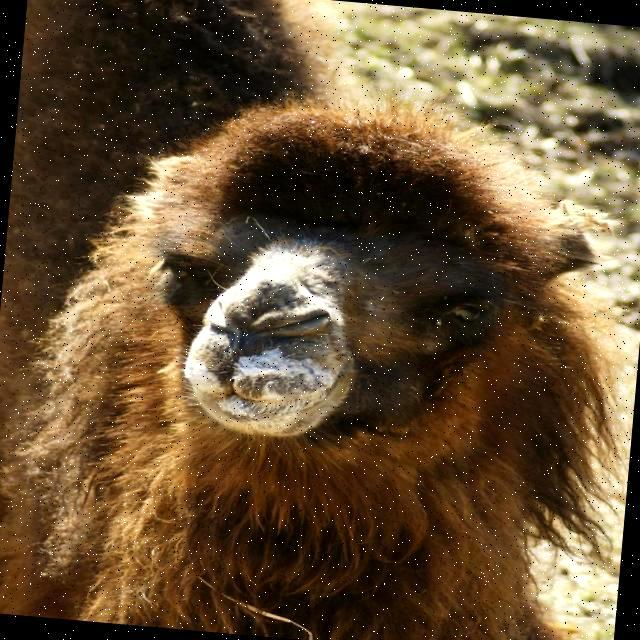sheep: (0, 33, 630, 640)
